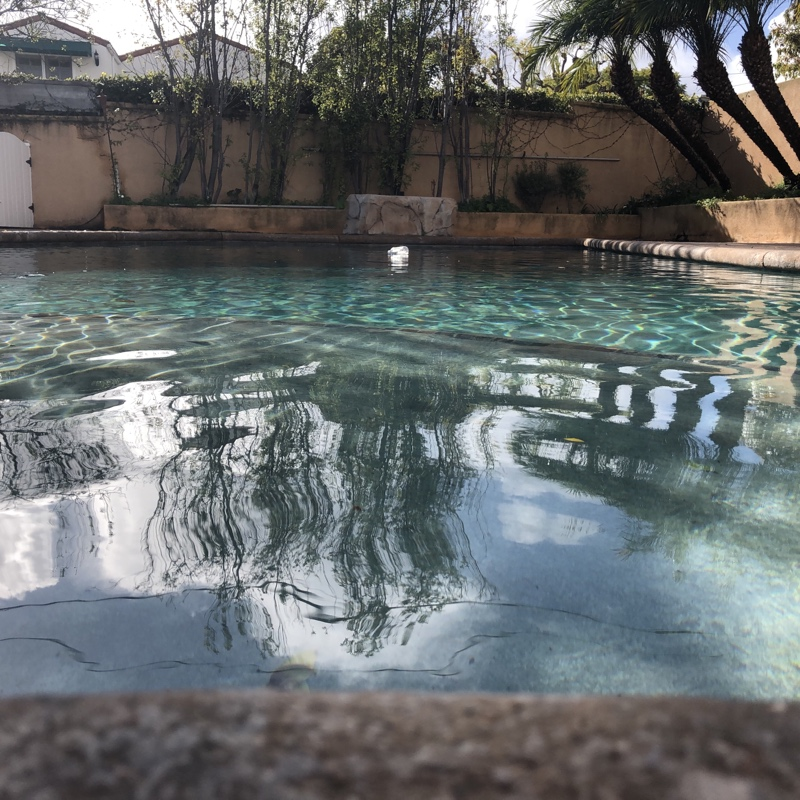Plastic Bottle: (386, 245, 409, 259)
